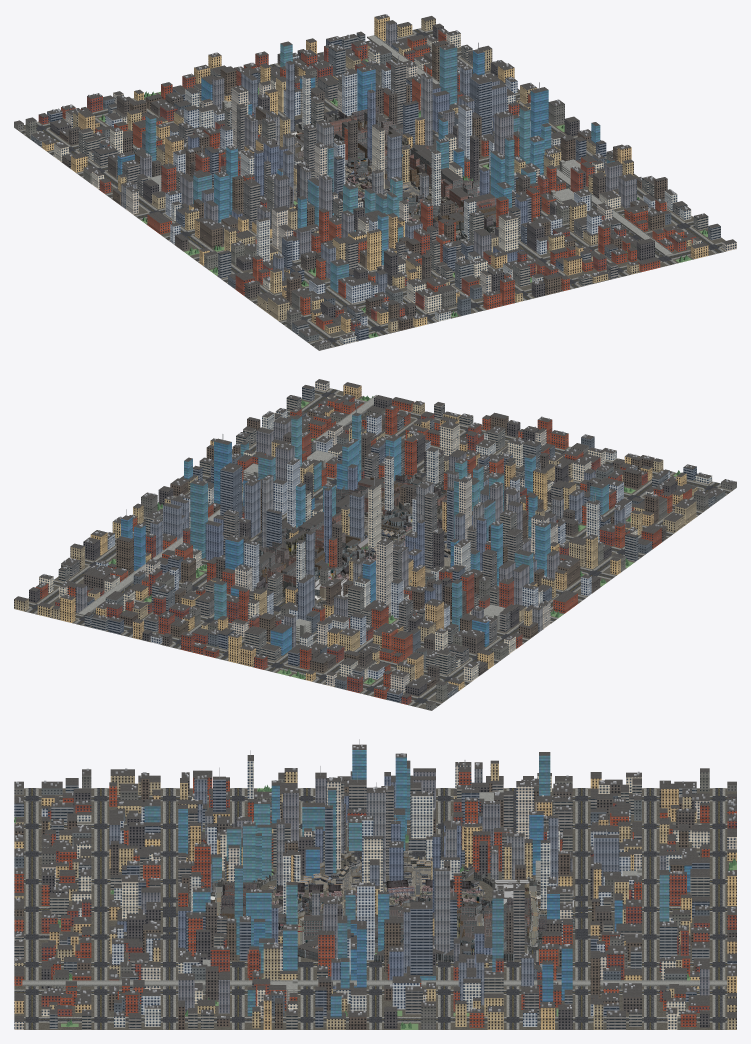
The model's file is city.glb.
3 views of the same model, one above another, from view 1: azimuth 30°, elevation 25°; view 2: azimuth 150°, elevation 25°; view 3: azimuth 270°, elevation 25° (orthographic). The views are drawn at different scales.
Parts seen in each view (by area): view 1: new-city, backdrop_grp_003_mdl_001_sub_000_material_099_0, unit_020_sub_000_material_083_0; view 2: new-city, backdrop_grp_000_mdl_001_sub_000_material_097_0, backdrop_grp_003_mdl_001_sub_000_material_099_0, unit_020_sub_000_material_083_0; view 3: new-city, backdrop_grp_003_mdl_001_sub_000_material_099_0, backdrop_grp_001_mdl_001_sub_000_material_098_0, unit_000_sub_008_material_008_0, backdrop_grp_000_mdl_001_sub_000_material_097_0, unit_000_sub_013_material_013_0.
Part boxes in pixels (box(x1,y1,x2,y2)): new-city: box(14, 14, 736, 350); backdrop_grp_003_mdl_001_sub_000_material_099_0: box(293, 159, 431, 220); unit_020_sub_000_material_083_0: box(357, 120, 479, 196); new-city: box(14, 379, 736, 710); backdrop_grp_000_mdl_001_sub_000_material_097_0: box(259, 495, 411, 580); backdrop_grp_003_mdl_001_sub_000_material_099_0: box(314, 510, 450, 573); unit_020_sub_000_material_083_0: box(269, 485, 368, 566); new-city: box(14, 739, 736, 1029); backdrop_grp_003_mdl_001_sub_000_material_099_0: box(268, 850, 484, 923); backdrop_grp_001_mdl_001_sub_000_material_098_0: box(188, 863, 542, 950); unit_000_sub_008_material_008_0: box(277, 879, 470, 900); backdrop_grp_000_mdl_001_sub_000_material_097_0: box(278, 895, 492, 957); unit_000_sub_013_material_013_0: box(271, 885, 480, 904).
Size of the model in its own units: 710 by 137 by 898.
Materials: 140 (136 with a texture image).
